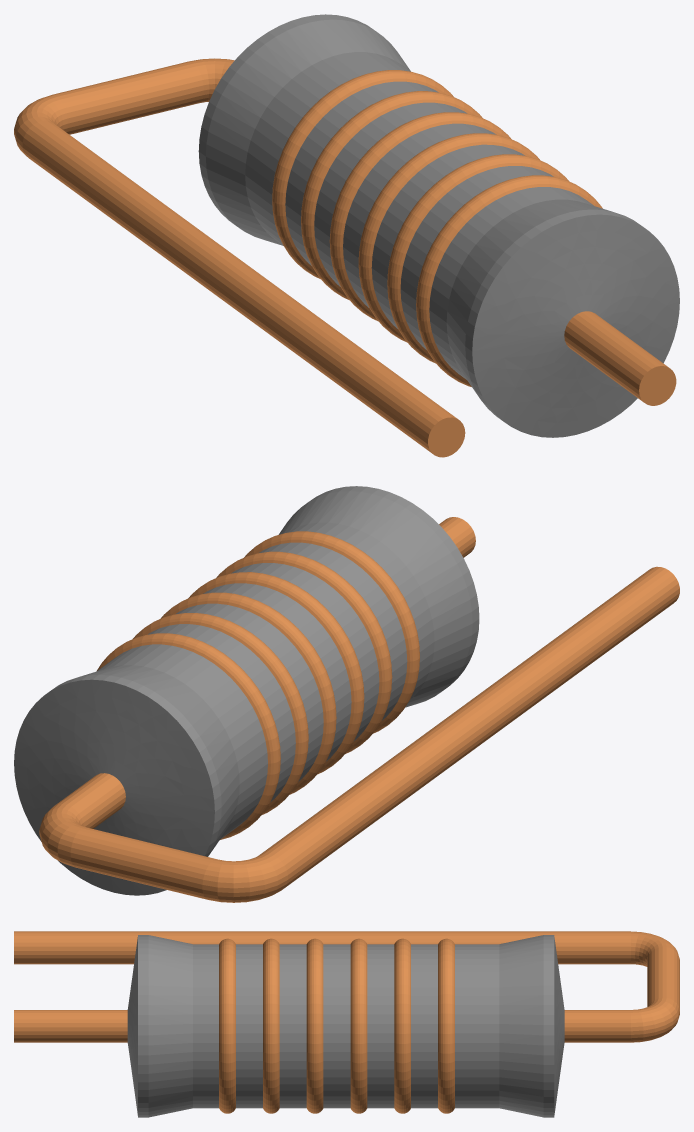
The model's file is L_Axial_L12.0mm_D5.0mm_P5.08mm_Vertical_Fastron_MISC.glb.
The picture shows the model from 3 angles, top to bottom: view 1: azimuth 30°, elevation 25°; view 2: azimuth 150°, elevation 25°; view 3: azimuth 270°, elevation 25°; orthographic projection. The views are drawn at different scales.
Visible parts, largest first — view 1: Shape_IndexedFaceSet.002, Shape_IndexedFaceSet.025, Shape_IndexedFaceSet.018, Shape_IndexedFaceSet.017, Shape_IndexedFaceSet.023, Shape_IndexedFaceSet.004, Shape_IndexedFaceSet.005, Shape_IndexedFaceSet.006, Shape_IndexedFaceSet.010, Shape_IndexedFaceSet.013, Shape_IndexedFaceSet.008, Shape_IndexedFaceSet.012 (+13 smaller); view 2: Shape_IndexedFaceSet.020, Shape_IndexedFaceSet.025, Shape_IndexedFaceSet.004, Shape_IndexedFaceSet.017, Shape_IndexedFaceSet.023, Shape_IndexedFaceSet.018, Shape_IndexedFaceSet.016, Shape_IndexedFaceSet.010, Shape_IndexedFaceSet.012, Shape_IndexedFaceSet.006, Shape_IndexedFaceSet.013, Shape_IndexedFaceSet.014 (+12 smaller); view 3: Shape_IndexedFaceSet.025, Shape_IndexedFaceSet.004, Shape_IndexedFaceSet.018, Shape_IndexedFaceSet.017, Shape_IndexedFaceSet.011, Shape_IndexedFaceSet.009, Shape_IndexedFaceSet.013, Shape_IndexedFaceSet.007, Shape_IndexedFaceSet.015, Shape_IndexedFaceSet.005, Shape_IndexedFaceSet.001, Shape_IndexedFaceSet.010 (+13 smaller).
Boxes of the visible parts, x1=… form: Shape_IndexedFaceSet.002: x1=472, y1=214, x2=679, y2=437; Shape_IndexedFaceSet.025: x1=22, y1=120, x2=458, y2=454; Shape_IndexedFaceSet.018: x1=205, y1=19, x2=410, y2=245; Shape_IndexedFaceSet.017: x1=245, y1=52, x2=410, y2=245; Shape_IndexedFaceSet.023: x1=53, y1=61, x2=203, y2=134; Shape_IndexedFaceSet.004: x1=446, y1=199, x2=612, y2=397; Shape_IndexedFaceSet.005: x1=429, y1=187, x2=593, y2=379; Shape_IndexedFaceSet.006: x1=416, y1=175, x2=602, y2=386; Shape_IndexedFaceSet.010: x1=358, y1=133, x2=539, y2=342; Shape_IndexedFaceSet.013: x1=314, y1=102, x2=467, y2=286; Shape_IndexedFaceSet.008: x1=387, y1=154, x2=568, y2=363; Shape_IndexedFaceSet.012: x1=329, y1=112, x2=510, y2=321; Shape_IndexedFaceSet.020: x1=14, y1=679, x2=214, y2=895; Shape_IndexedFaceSet.025: x1=260, y1=566, x2=679, y2=888; Shape_IndexedFaceSet.004: x1=278, y1=491, x2=472, y2=707; Shape_IndexedFaceSet.017: x1=97, y1=644, x2=267, y2=839; Shape_IndexedFaceSet.023: x1=70, y1=827, x2=216, y2=899; Shape_IndexedFaceSet.018: x1=79, y1=665, x2=239, y2=856; Shape_IndexedFaceSet.016: x1=97, y1=633, x2=280, y2=839; Shape_IndexedFaceSet.010: x1=188, y1=572, x2=364, y2=774; Shape_IndexedFaceSet.012: x1=161, y1=592, x2=336, y2=794; Shape_IndexedFaceSet.006: x1=244, y1=531, x2=419, y2=733; Shape_IndexedFaceSet.013: x1=175, y1=603, x2=323, y2=781; Shape_IndexedFaceSet.014: x1=133, y1=613, x2=308, y2=814; Shape_IndexedFaceSet.025: x1=14, y1=931, x2=630, y2=964; Shape_IndexedFaceSet.004: x1=148, y1=935, x2=192, y2=1117; Shape_IndexedFaceSet.018: x1=499, y1=935, x2=543, y2=1117; Shape_IndexedFaceSet.017: x1=455, y1=944, x2=499, y2=1108; Shape_IndexedFaceSet.011: x1=323, y1=944, x2=350, y2=1108; Shape_IndexedFaceSet.009: x1=279, y1=944, x2=306, y2=1108; Shape_IndexedFaceSet.013: x1=367, y1=944, x2=394, y2=1108; Shape_IndexedFaceSet.007: x1=236, y1=944, x2=262, y2=1108; Shape_IndexedFaceSet.015: x1=411, y1=944, x2=437, y2=1108; Shape_IndexedFaceSet.005: x1=193, y1=944, x2=218, y2=1108; Shape_IndexedFaceSet.001: x1=14, y1=1010, x2=127, y2=1042; Shape_IndexedFaceSet.010: x1=306, y1=938, x2=323, y2=1113.
Size of the model in its own units: 3.16 by 1.97 by 7.18.
